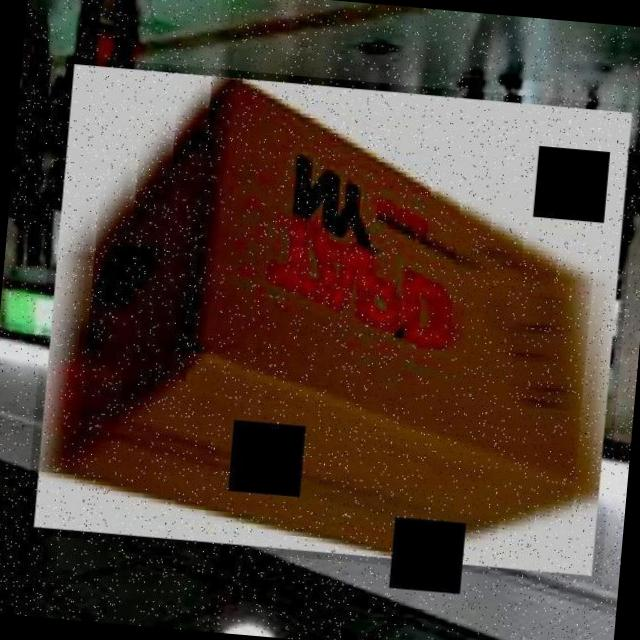box: (23, 54, 640, 583)
